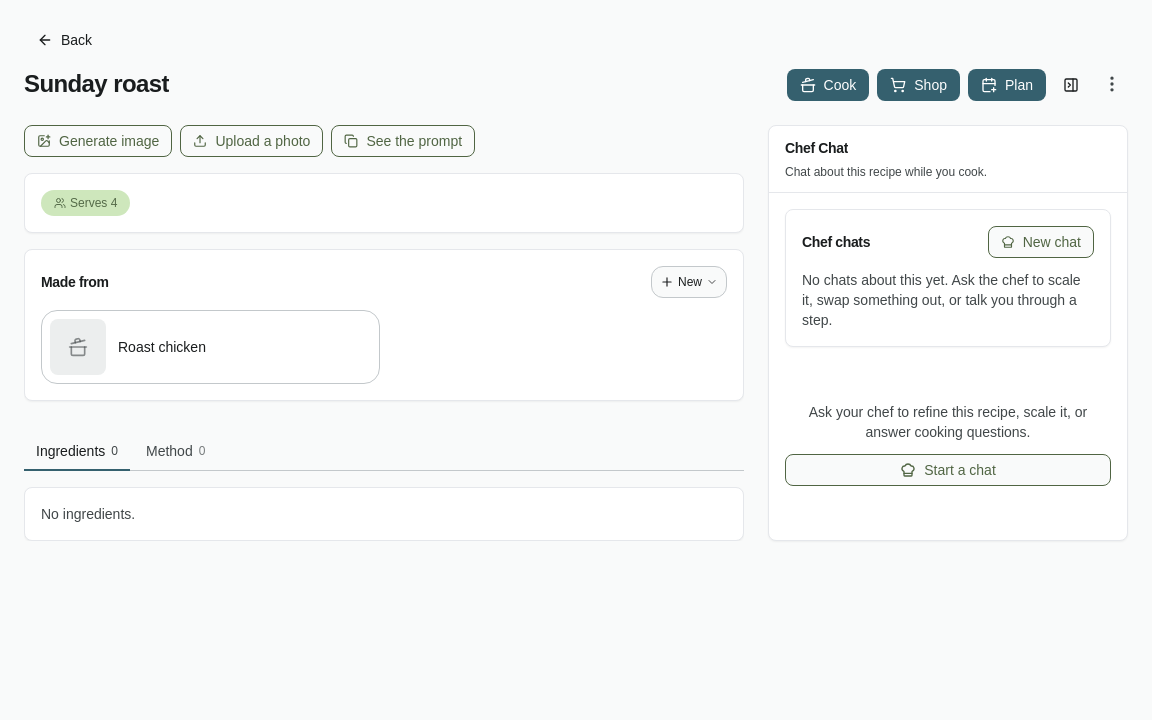
Test: RecipeViewPage — adding a dish to a meal › offers the four ways in, and only on a meal
Click the button with test id "meal-component-new-btn": (689, 282) x1=651 y1=266 x2=727 y2=298
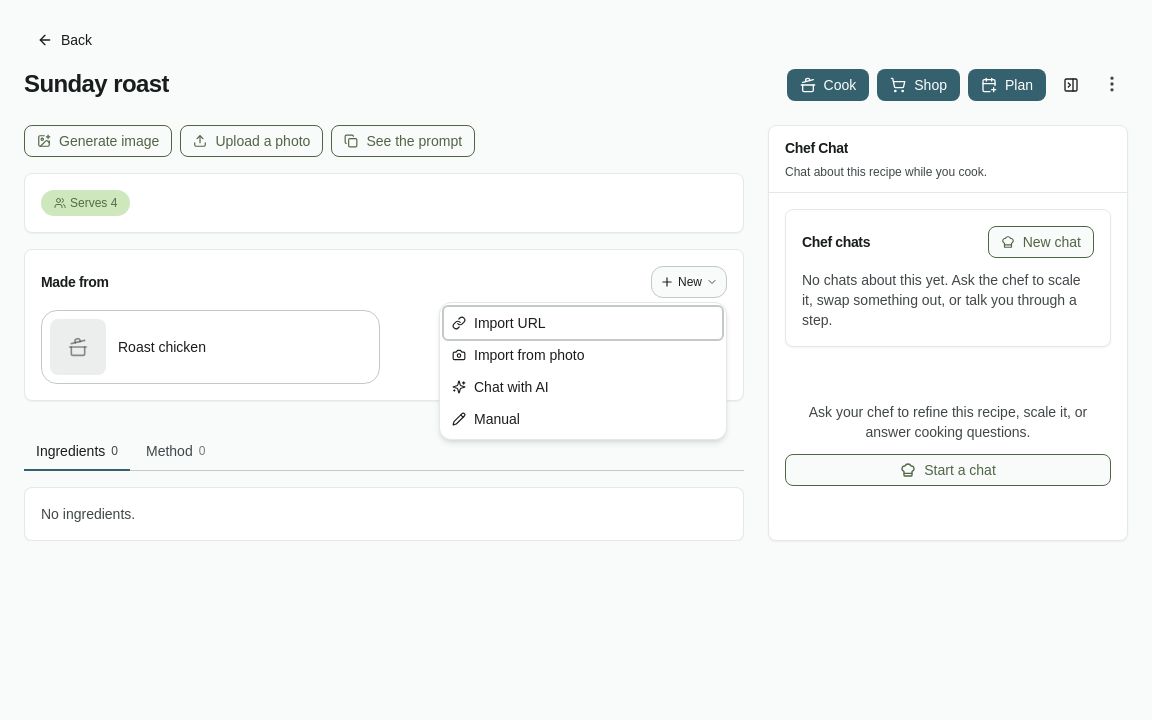
Now the button with test id "meal-component-new-import" is shown, box x1=444 y1=307 x2=722 y2=339
Now the button with test id "meal-component-new-import-photo" is shown, box x1=444 y1=339 x2=722 y2=371
Now the button with test id "meal-component-new-chat" is shown, box x1=444 y1=371 x2=722 y2=403
